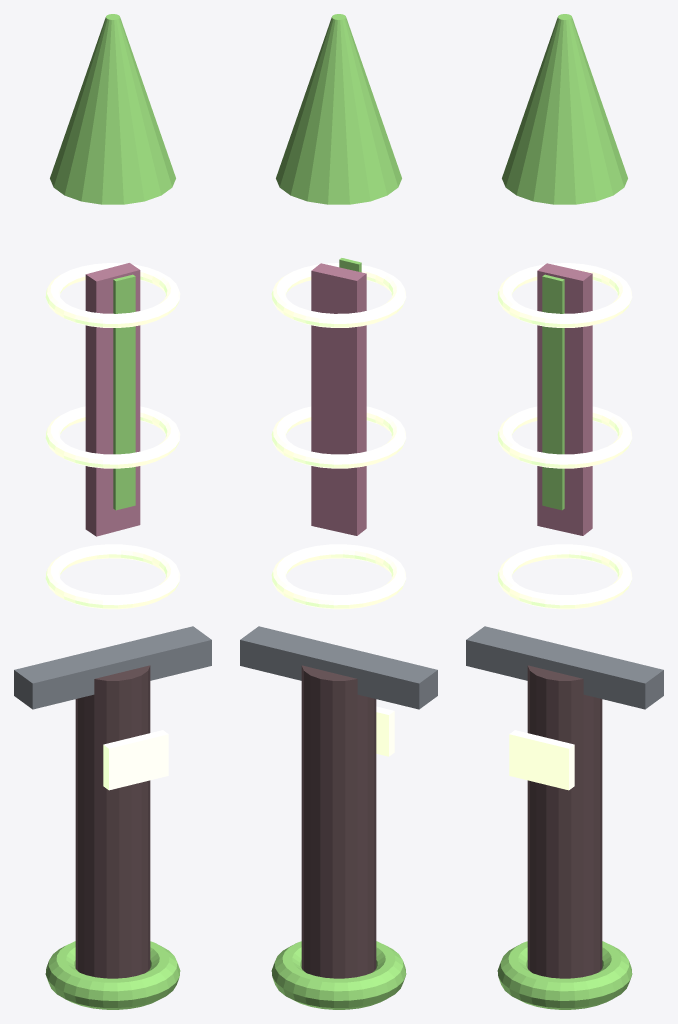
Rendered from asset.glb.
3 views of the same model, side by side, from view 1: azimuth 30°, elevation 25°; view 2: azimuth 150°, elevation 25°; view 3: azimuth 330°, elevation 25° (orthographic).
Parts seen in each view (by area): view 1: Grip, BladeTip, BladeCore, Guard, Pommel, BladeEdge, EnergyBand_1.18, EnergyBand_2.26, EnergyBand_1.72, IdentityPlate; view 2: Grip, BladeTip, BladeCore, Guard, Pommel, EnergyBand_1.18, EnergyBand_2.26, EnergyBand_1.72, IdentityPlate; view 3: Grip, BladeTip, BladeCore, Guard, Pommel, BladeEdge, EnergyBand_1.18, EnergyBand_2.26, EnergyBand_1.72, IdentityPlate.
Part boxes in pixels (x1,y1,x2,y2): Grip: (75,665,150,978); BladeTip: (50,14,175,204); BladeCore: (85,263,140,536); Guard: (14,626,211,709); Pommel: (45,941,180,1009); BladeEdge: (113,274,135,510); EnergyBand_1.18: (45,544,180,609); EnergyBand_2.26: (45,263,180,327); EnergyBand_1.72: (45,406,180,468); IdentityPlate: (103,730,168,790); Grip: (301,665,376,978); BladeTip: (276,14,401,204); BladeCore: (311,263,366,535); Guard: (240,626,437,709); Pommel: (271,941,406,1009); EnergyBand_1.18: (271,544,406,609); EnergyBand_2.26: (271,263,406,327); EnergyBand_1.72: (271,406,406,468); IdentityPlate: (376,706,394,756); Grip: (527,665,602,978); BladeTip: (502,14,627,204); BladeCore: (537,263,592,535); Guard: (466,626,663,709); Pommel: (497,941,632,1009); BladeEdge: (542,274,564,510); EnergyBand_1.18: (497,544,632,609); EnergyBand_2.26: (497,263,632,327); EnergyBand_1.72: (497,406,632,468); IdentityPlate: (509,730,574,790).
Bounding box in the file's own units: 0.72 × 3.72 × 0.47.
